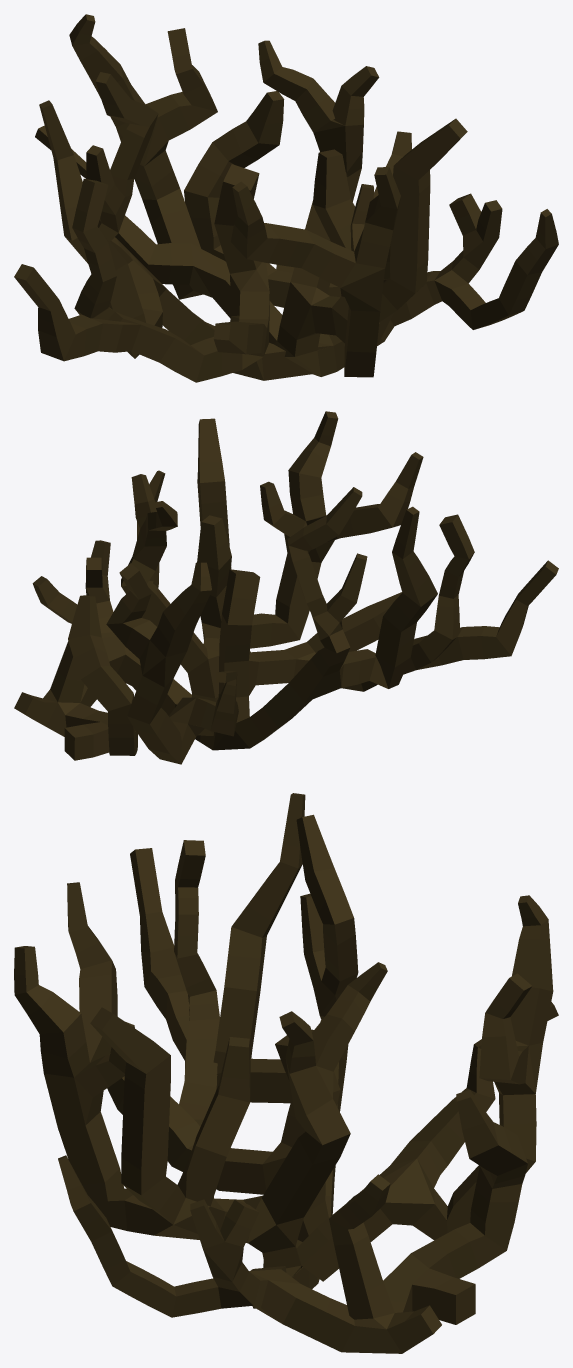
Rendered from dead bush no 3.fbx.
The picture shows the model from 3 angles, top to bottom: view 1: azimuth 30°, elevation 25°; view 2: azimuth 150°, elevation 25°; view 3: azimuth 270°, elevation 25°; orthographic projection. The views are drawn at different scales.
Parts seen in each view (by area): view 1: Cube.010; view 2: Cube.010; view 3: Cube.010.
Part boxes in pixels (left/top/right/bottom): Cube.010: left=14, top=14, right=558, bottom=382; Cube.010: left=14, top=411, right=558, bottom=764; Cube.010: left=14, top=793, right=558, bottom=1353.
Bounding box in the file's own units: 195 × 123 × 159.
